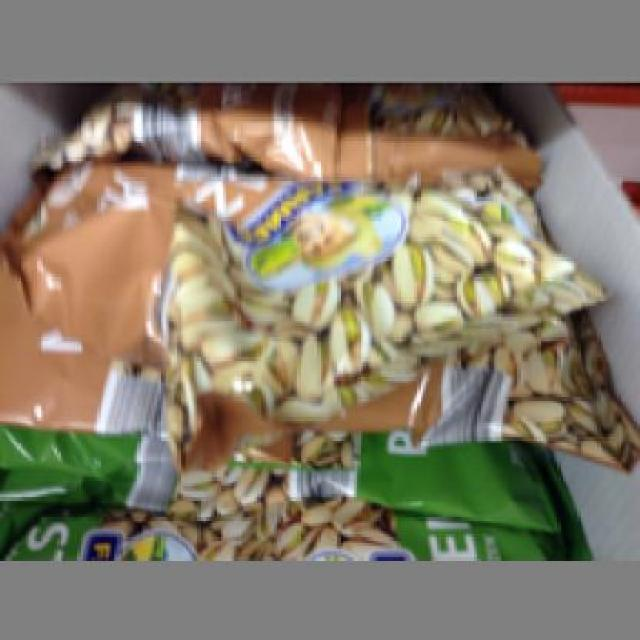Nuts: (0, 154, 623, 466)
